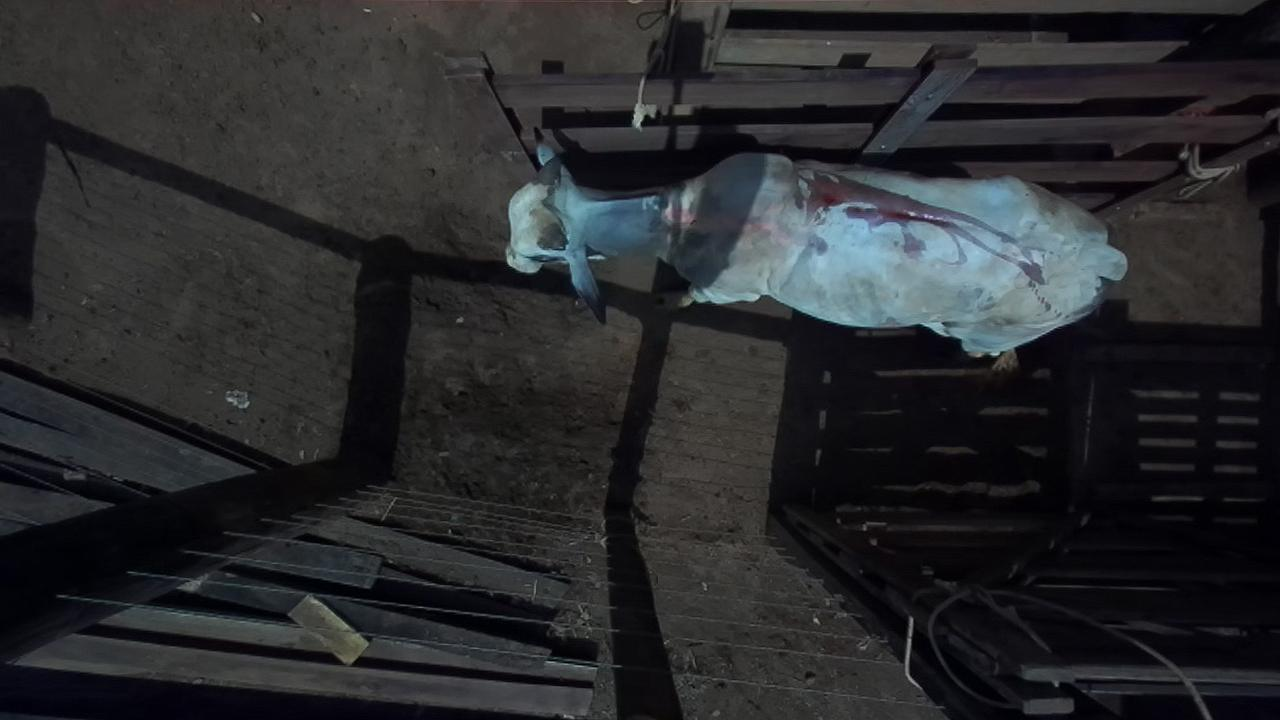cattle: (503, 142, 1128, 372)
